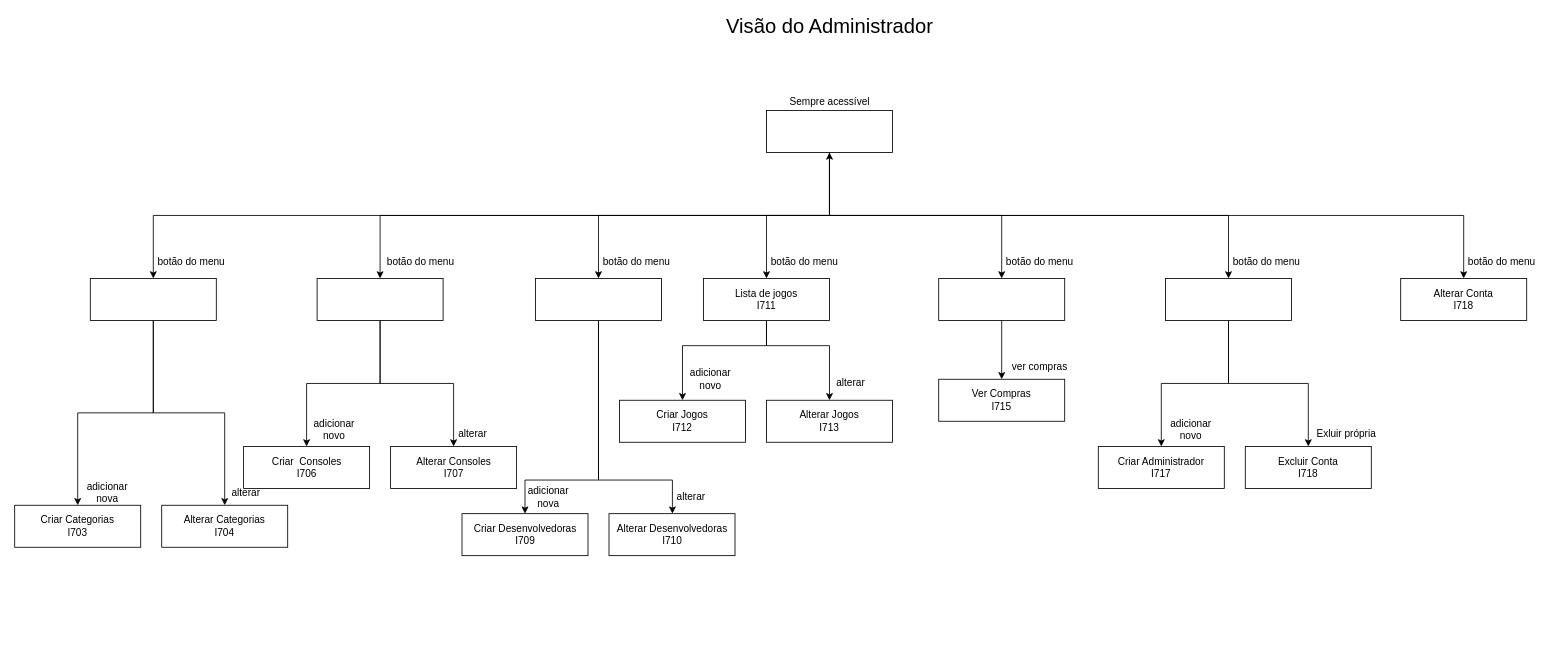
This 1558x654 diagram has some shape labels left out. The shapes that lost their labels are listed below. From the top down, each one's centre as x and y in pixels, then its label:
At point 829,131: "Barra principal I701".
At point 152,299: "Lista de Categorias I702".
At point 379,299: "Lista de Consoles I705".
At point 598,299: "Lista de Desenvolvedoras I708".
At point 1001,299: "Lista de Usuários I714".
At point 1228,299: "Lista de Administradores I716".
